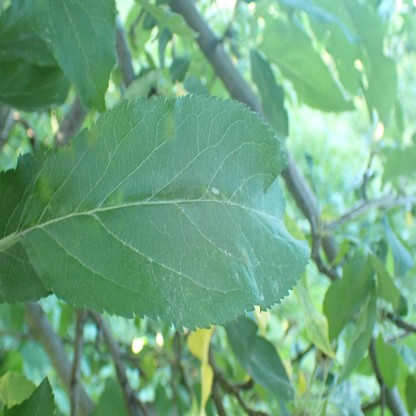powdery_mildew: (152, 264, 192, 320), (272, 279, 280, 293)
scab: (38, 171, 51, 201), (107, 189, 127, 207), (164, 114, 175, 143), (60, 140, 76, 155), (201, 185, 216, 200), (88, 127, 99, 147), (240, 247, 250, 265), (221, 193, 227, 199)
